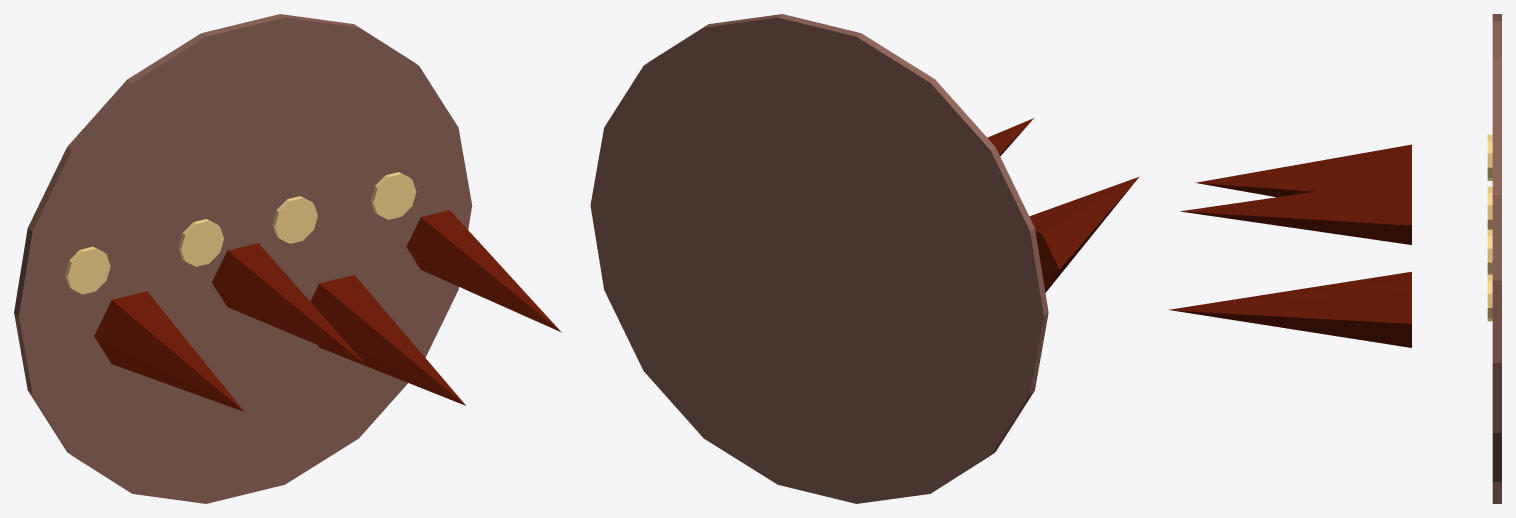
The model's file is 02_local_prop_cluster.glb.
3 views of the same model, side by side, from view 1: azimuth 30°, elevation 25°; view 2: azimuth 150°, elevation 25°; view 3: azimuth 270°, elevation 25° (orthographic). The views are drawn at different scales.
Parts seen in each view (by area): view 1: scatter_base, basalt_shard_0, basalt_shard_2, basalt_shard_1, basalt_shard_3, lava_glow_2, lava_glow_0, lava_glow_3, lava_glow_1; view 2: scatter_base, basalt_shard_0; view 3: basalt_shard_1, basalt_shard_3, basalt_shard_0, scatter_base, basalt_shard_2.
Part boxes in pixels (box(x1,y1,x2,y2)): scatter_base: box(14, 14, 472, 503); basalt_shard_0: box(94, 291, 244, 411); basalt_shard_2: box(310, 275, 465, 405); basalt_shard_1: box(212, 243, 366, 365); basalt_shard_3: box(406, 210, 561, 332); lava_glow_2: box(272, 196, 317, 243); lava_glow_0: box(65, 246, 110, 294); lava_glow_3: box(371, 172, 416, 219); lava_glow_1: box(178, 219, 223, 266); scatter_base: box(590, 14, 1048, 503); basalt_shard_0: box(1029, 177, 1138, 292); basalt_shard_1: box(1180, 177, 1411, 244); basalt_shard_3: box(1175, 279, 1411, 341); basalt_shard_0: box(1195, 144, 1411, 197); scatter_base: box(1492, 14, 1501, 503); basalt_shard_2: box(1168, 271, 1411, 347).
Bounding box in the file's own units: 1.9 × 1.87 × 1.29.
